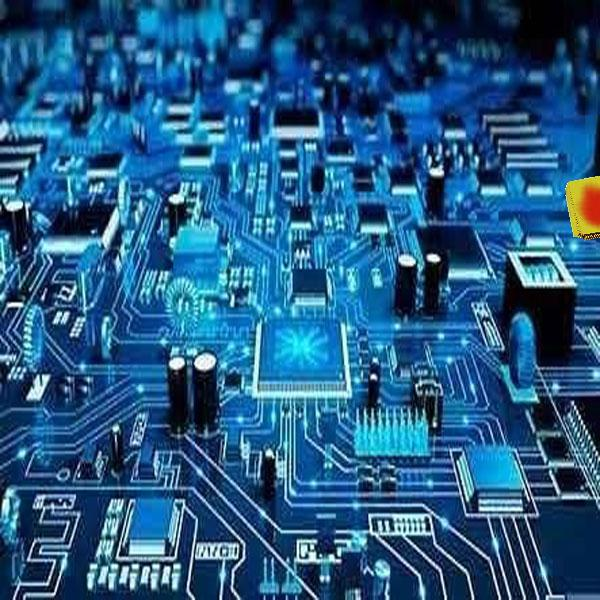componente_T: (562, 172, 600, 243)
